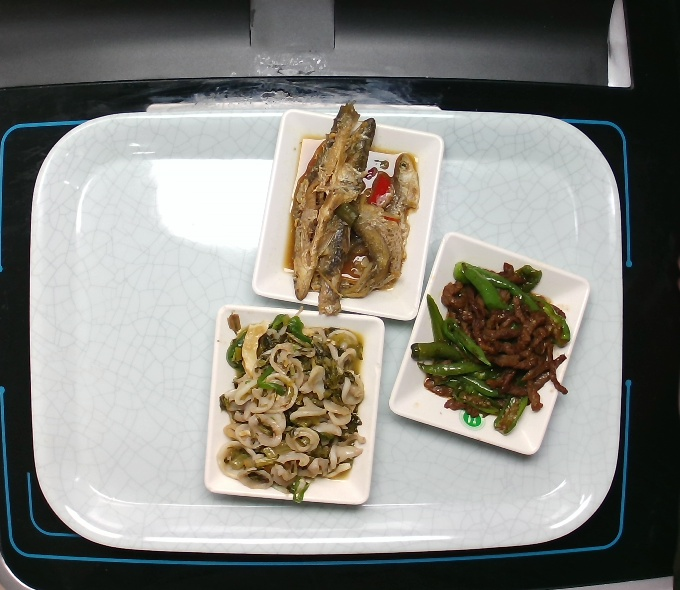wcq-QingJiaoNiuRou: (406, 256, 579, 439)
wcq-XiaoXiYu: (279, 96, 423, 322)
wcq-XueCaiYouYu: (212, 302, 369, 506)
